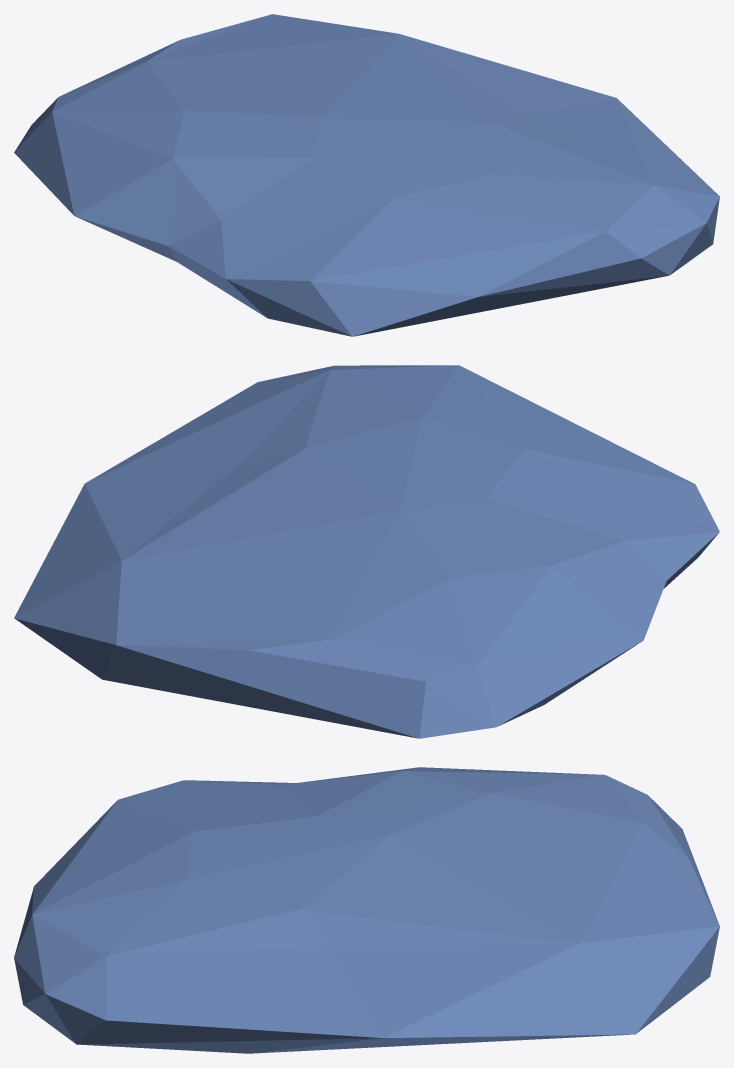
Rendered from Stein 3.glb.
3 renders of one model, top to bottom at view 1: azimuth 30°, elevation 25°; view 2: azimuth 150°, elevation 25°; view 3: azimuth 270°, elevation 25°, orthographic. The views are drawn at different scales.
Visible parts, largest first — view 1: Stein 3; view 2: Stein 3; view 3: Stein 3.
Boxes of the visible parts, box(x1,y1,x2,y2) form: Stein 3: box(14, 14, 719, 336); Stein 3: box(14, 365, 719, 738); Stein 3: box(14, 767, 719, 1053).
Size of the model in its own units: 0.3551 by 0.0552 by 0.3876.
